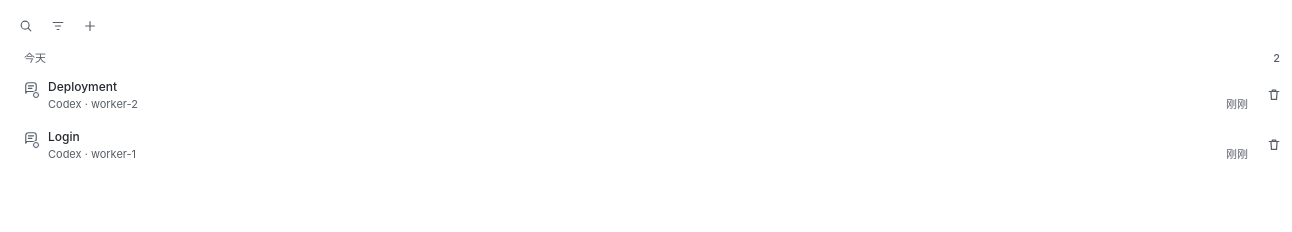
closing search clears the query and clearing the worker chip restores the list
Expected: the text "Login" is shown, [48, 129, 80, 145]
Click the button named "搜索会话".
click(26, 26)  # box [12, 12, 40, 40]
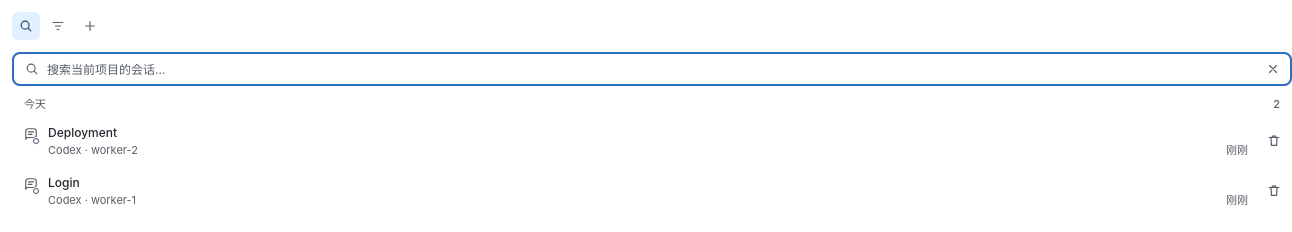
Type "login" into the search field labelled "搜索当前项目的会话".
click(649, 69); type("login")  # box [47, 53, 1251, 85]
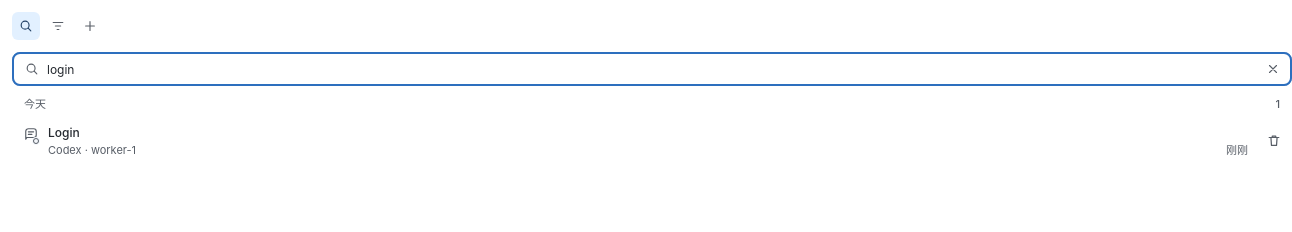
Now the button "Deployment" is gone
Press Escape in the search field named "搜索当前项目的会话", box [47, 53, 1251, 85]
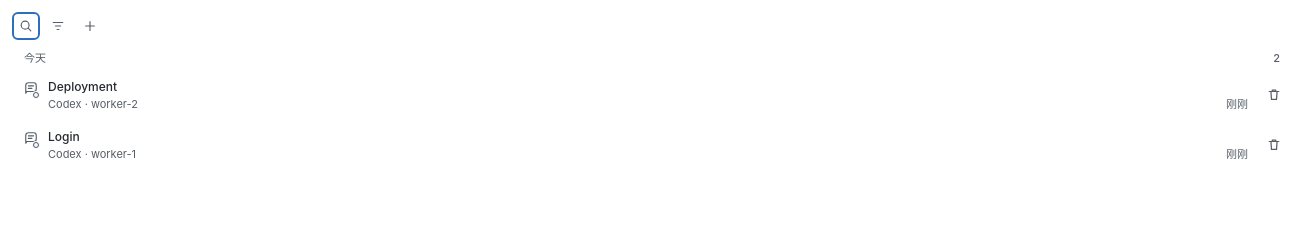
Now the search field labelled "搜索当前项目的会话" is gone
Now the text "Deployment" is shown, box [48, 78, 117, 94]
Click the button named "按执行环境筛选".
click(58, 26)  # box [44, 12, 72, 40]
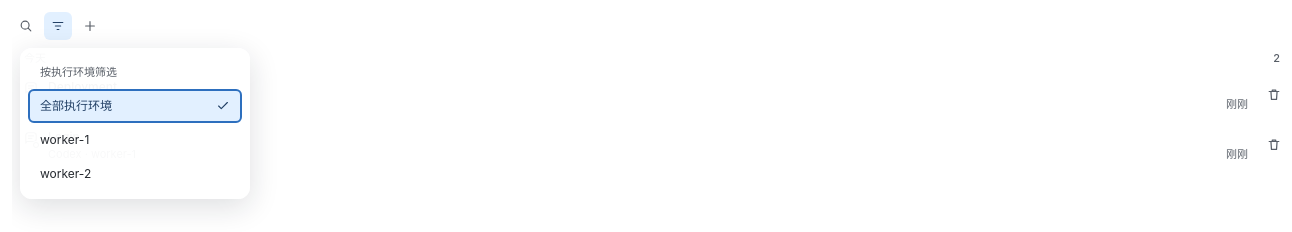
Click the menu item "worker-1".
click(135, 140)  # box [28, 122, 242, 156]
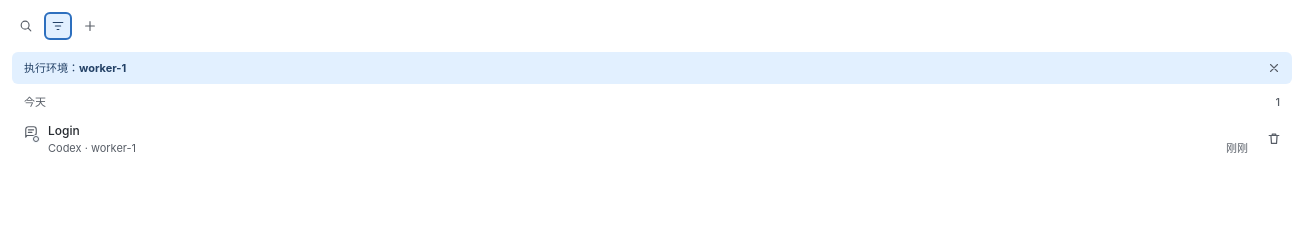
Now the button "Deployment" is gone
Click the button named "清除执行环境筛选".
click(1274, 68)  # box [1260, 54, 1288, 82]
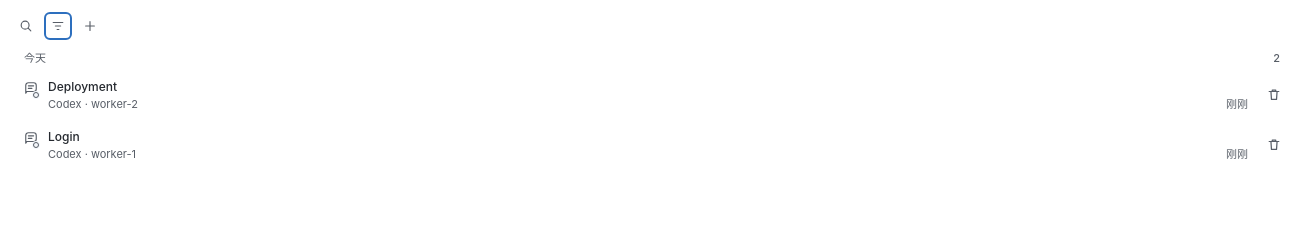
Now the text "Deployment" is shown, box [48, 78, 117, 94]
